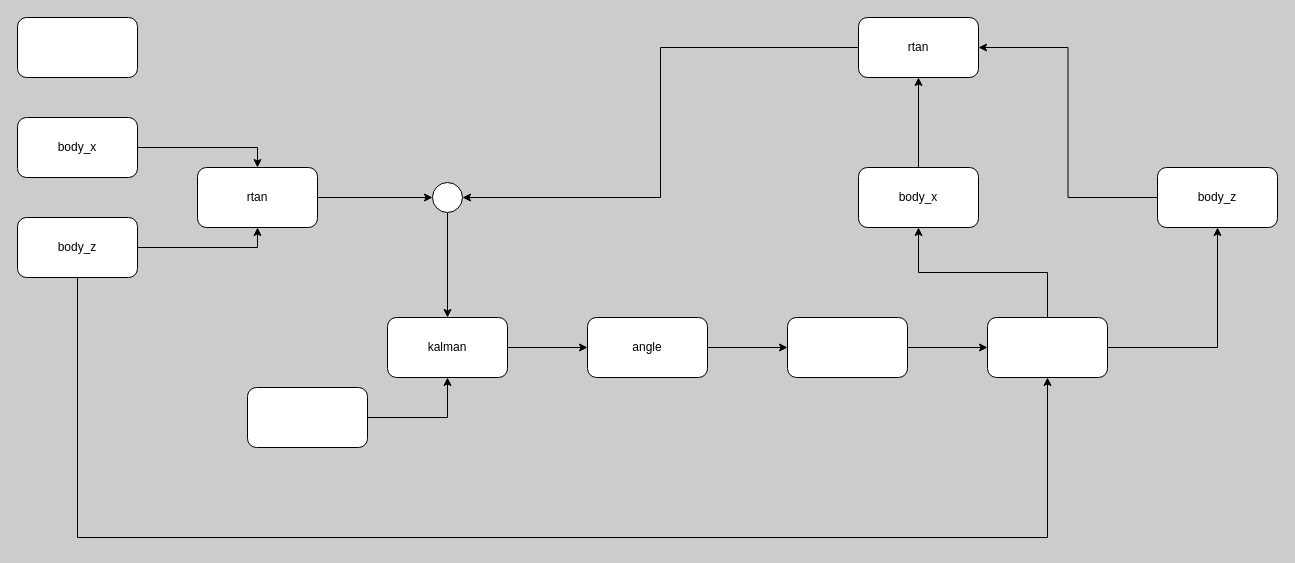
The diagram is 1295 pixels wide and 563 high, and some of its shapes have lost their labels. The centre of each missing label's shape, as x and y in pixels:
gyro: (307,417)
Quaternions: (847,347)
rotate mat: (1047,347)
